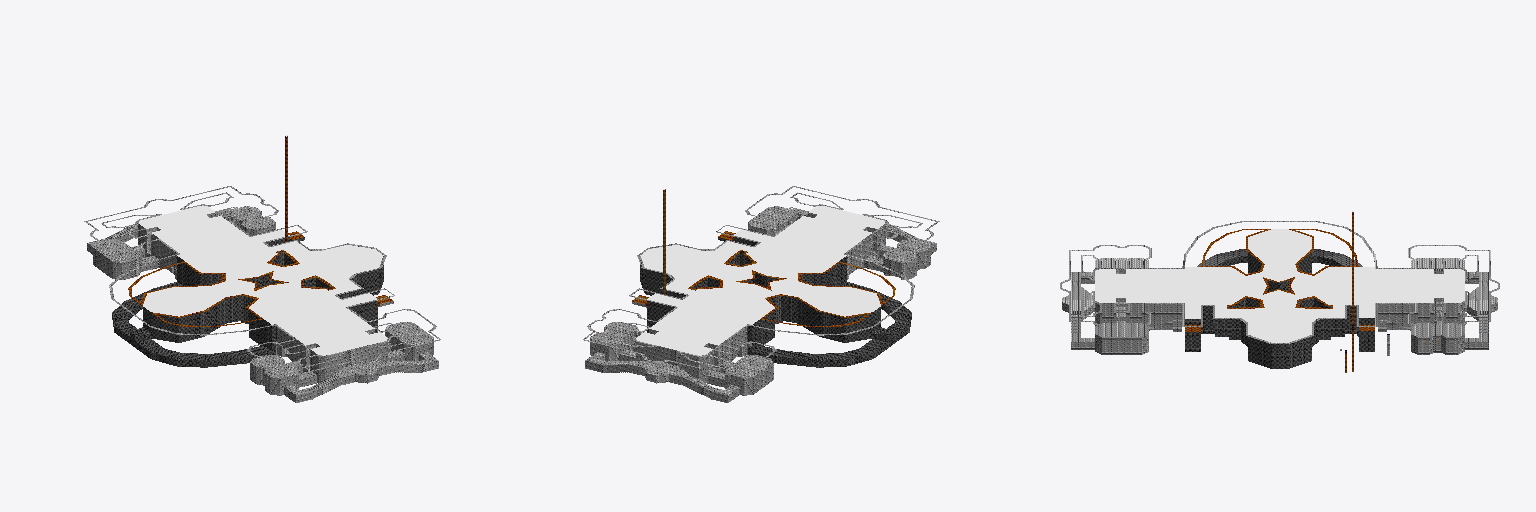
The picture shows the model from 3 angles: view 1: azimuth 30°, elevation 25°; view 2: azimuth 150°, elevation 25°; view 3: azimuth 270°, elevation 25°; orthographic projection.
Parts seen in each view (by area): view 1: MAP84; view 2: MAP84; view 3: MAP84.
Boxes of the visible parts, x1,y1,x2,y2 form: MAP84: [84, 135, 440, 402]; MAP84: [583, 186, 939, 402]; MAP84: [1060, 211, 1499, 372].
Size of the model in its own units: 7872 by 4608 by 11968.
Materials: 23 (21 with a texture image).